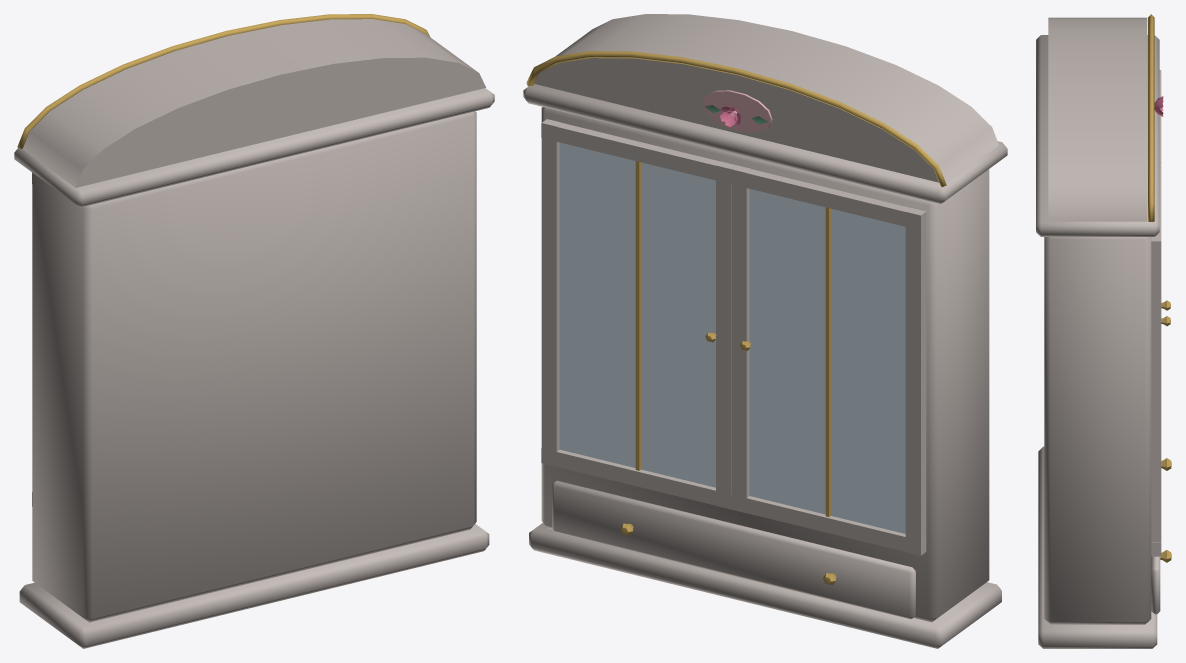
The model's file is medicine_cabinet_wall.glb.
3 renders of one model, left to right at view 1: azimuth 30°, elevation 25°; view 2: azimuth 150°, elevation 25°; view 3: azimuth 270°, elevation 25°, orthographic. The views are drawn at different scales.
Visible parts, largest first — view 1: medicine_cabinet_wall; view 2: medicine_cabinet_wall; view 3: medicine_cabinet_wall.
Part boxes in pixels (<box>): medicine_cabinet_wall: <box>14,14,494,648</box>; medicine_cabinet_wall: <box>523,14,1007,648</box>; medicine_cabinet_wall: <box>1036,14,1171,648</box>.
Size of what is drawn, in the model's own units: 1 by 1.2 by 0.3.
